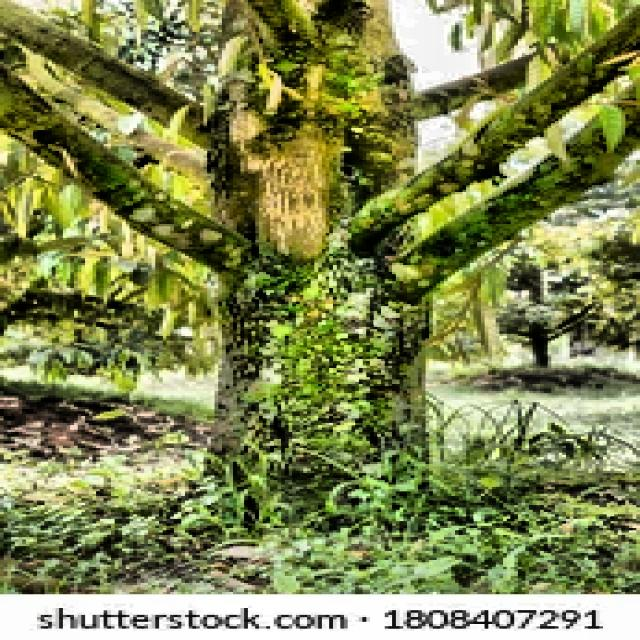arvore: (165, 3, 453, 546)
